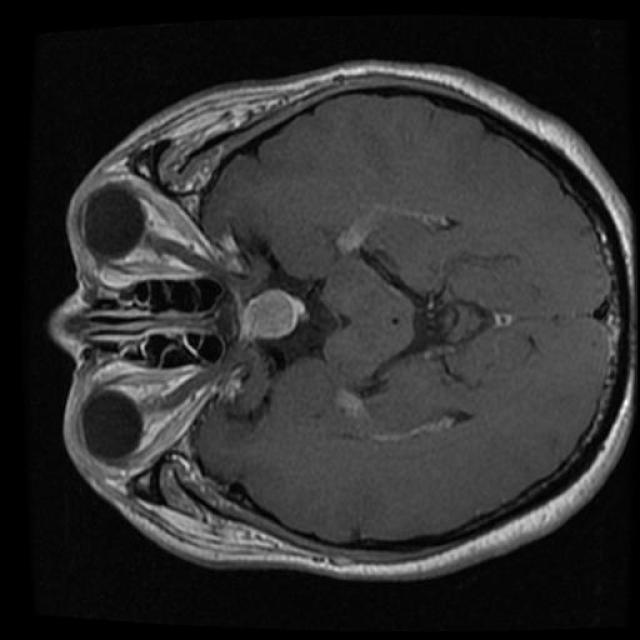Pituitary: (241, 289, 307, 341)
